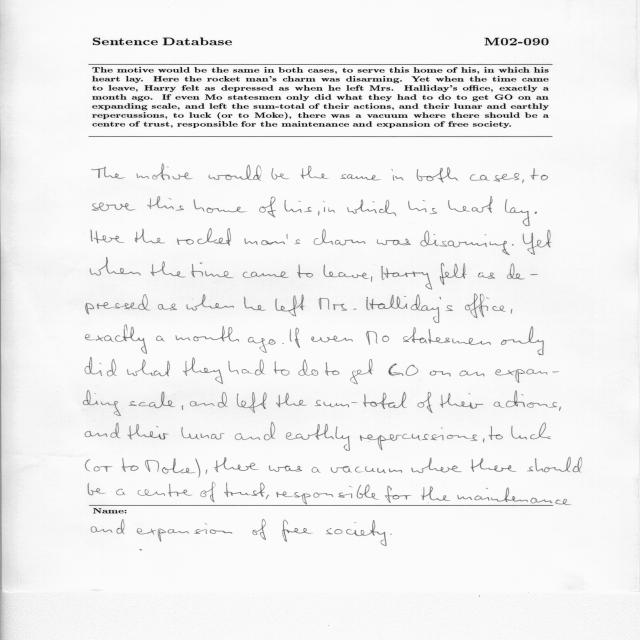word: (294, 484, 571, 505), (360, 428, 477, 451), (366, 294, 453, 323), (420, 231, 510, 255), (85, 325, 147, 354), (286, 423, 350, 451), (403, 327, 491, 345), (315, 392, 407, 409), (86, 294, 151, 314), (501, 326, 544, 355), (381, 266, 432, 290), (493, 390, 557, 408), (183, 357, 223, 384), (176, 326, 240, 342), (465, 294, 506, 318), (90, 257, 141, 276), (83, 391, 121, 416), (177, 229, 231, 246), (136, 164, 192, 180), (495, 369, 559, 383), (527, 457, 582, 473), (209, 165, 262, 181), (348, 200, 397, 217), (314, 229, 366, 245), (186, 294, 234, 311), (129, 392, 175, 409), (448, 196, 493, 213), (411, 458, 462, 473), (162, 458, 200, 478), (194, 199, 247, 213), (235, 423, 276, 441), (127, 360, 170, 377), (523, 230, 551, 255), (440, 393, 483, 409), (511, 423, 551, 440), (505, 200, 530, 227), (214, 457, 259, 472), (127, 424, 169, 440), (275, 295, 305, 317), (417, 167, 458, 183), (324, 265, 370, 279), (237, 392, 267, 413), (471, 458, 516, 472), (244, 234, 300, 245), (192, 263, 233, 278), (85, 358, 117, 377), (151, 261, 186, 278), (440, 263, 467, 285), (228, 360, 265, 376), (350, 359, 373, 384), (147, 196, 184, 211), (190, 392, 227, 407), (85, 423, 121, 438), (181, 427, 225, 439), (507, 263, 538, 280), (331, 466, 402, 473), (319, 298, 356, 311), (248, 337, 276, 353), (470, 173, 519, 182), (276, 393, 307, 407), (92, 166, 125, 179), (91, 230, 124, 243), (135, 229, 165, 243), (409, 200, 438, 214), (224, 483, 252, 497), (389, 363, 419, 376), (300, 166, 329, 179), (284, 200, 312, 213), (259, 197, 276, 218), (92, 203, 136, 211), (299, 359, 319, 376), (243, 271, 289, 278), (366, 331, 389, 345), (418, 392, 433, 413), (168, 484, 192, 497), (244, 297, 266, 311), (201, 482, 216, 502), (311, 336, 353, 343), (340, 174, 381, 181), (273, 361, 290, 376), (377, 239, 411, 246), (122, 458, 139, 472), (269, 465, 302, 472), (297, 264, 313, 278), (271, 168, 289, 180), (88, 483, 106, 495), (488, 426, 503, 440), (531, 169, 548, 181), (290, 328, 300, 348), (325, 362, 339, 376), (252, 482, 265, 497), (138, 489, 165, 496), (459, 370, 485, 377), (145, 460, 159, 472), (391, 169, 404, 181), (430, 370, 451, 377), (323, 201, 335, 213), (158, 304, 177, 311), (93, 466, 113, 472), (478, 272, 495, 279), (276, 492, 294, 498), (86, 459, 91, 471), (311, 467, 321, 473), (116, 489, 126, 495), (156, 336, 165, 342), (266, 495, 269, 499), (511, 309, 513, 314), (559, 406, 561, 411), (483, 438, 485, 443), (522, 180, 524, 183), (371, 276, 372, 282), (318, 211, 319, 216), (182, 405, 183, 410), (206, 470, 207, 475), (535, 212, 537, 214), (512, 244, 514, 246), (282, 343, 284, 344)
